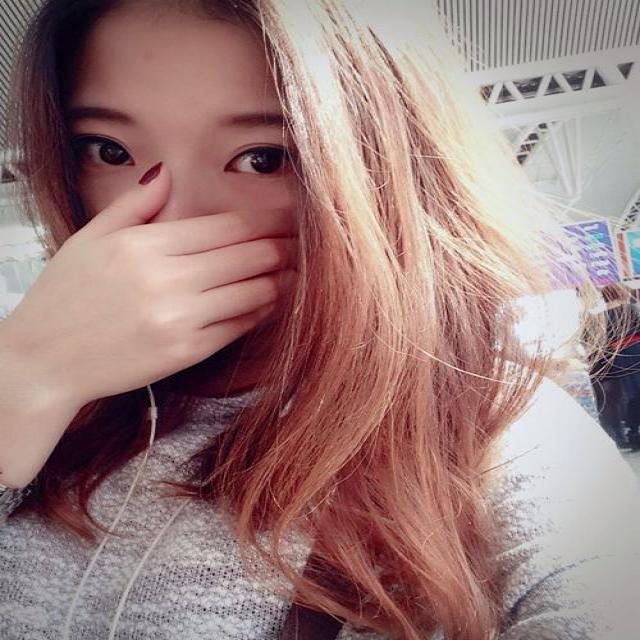nomask: (40, 1, 336, 382)
